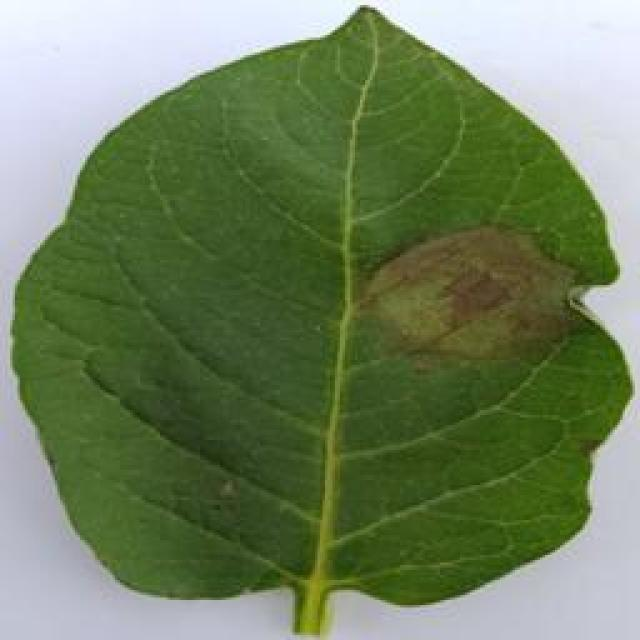Potato_Late_Blight: (12, 5, 629, 620)
